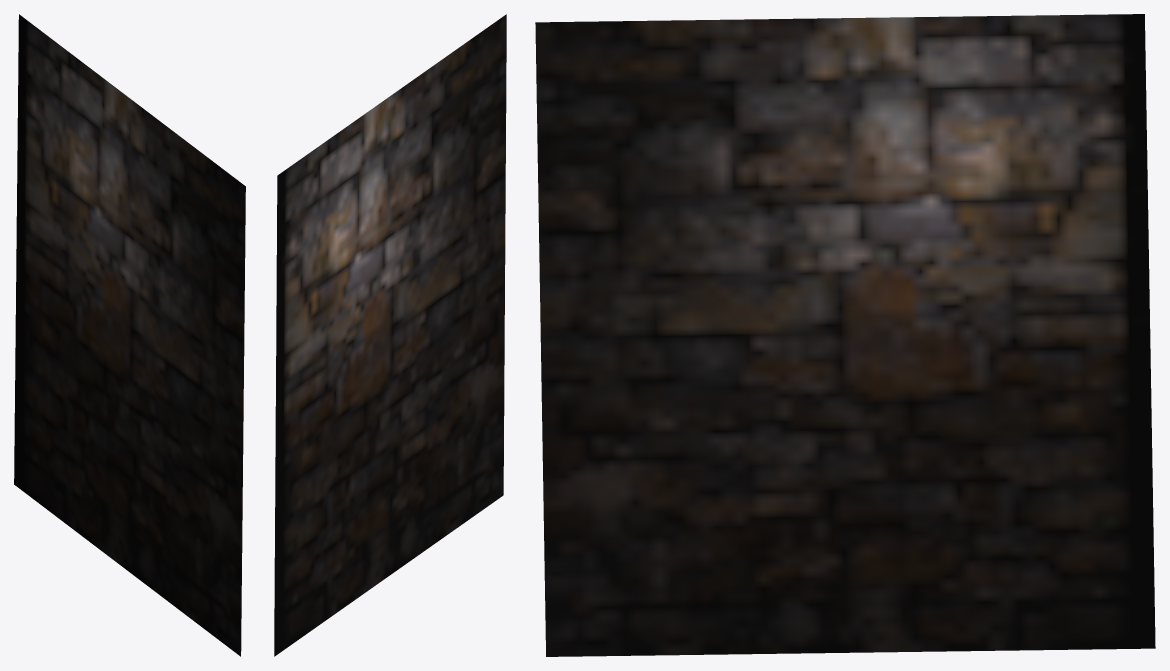
The model's file is wall01.fbx.
3 renders of one model, left to right at view 1: azimuth 30°, elevation 25°; view 2: azimuth 150°, elevation 25°; view 3: azimuth 270°, elevation 25°, orthographic. The views are drawn at different scales.
Visible parts, largest first — view 1: wall.011; view 2: wall.011; view 3: wall.011.
Part boxes in pixels (<box>): wall.011: <box>14,14,245,656</box>; wall.011: <box>274,14,506,656</box>; wall.011: <box>535,14,1155,656</box>.
Bounding box in the file's own units: 0.4328 × 233 × 203.
